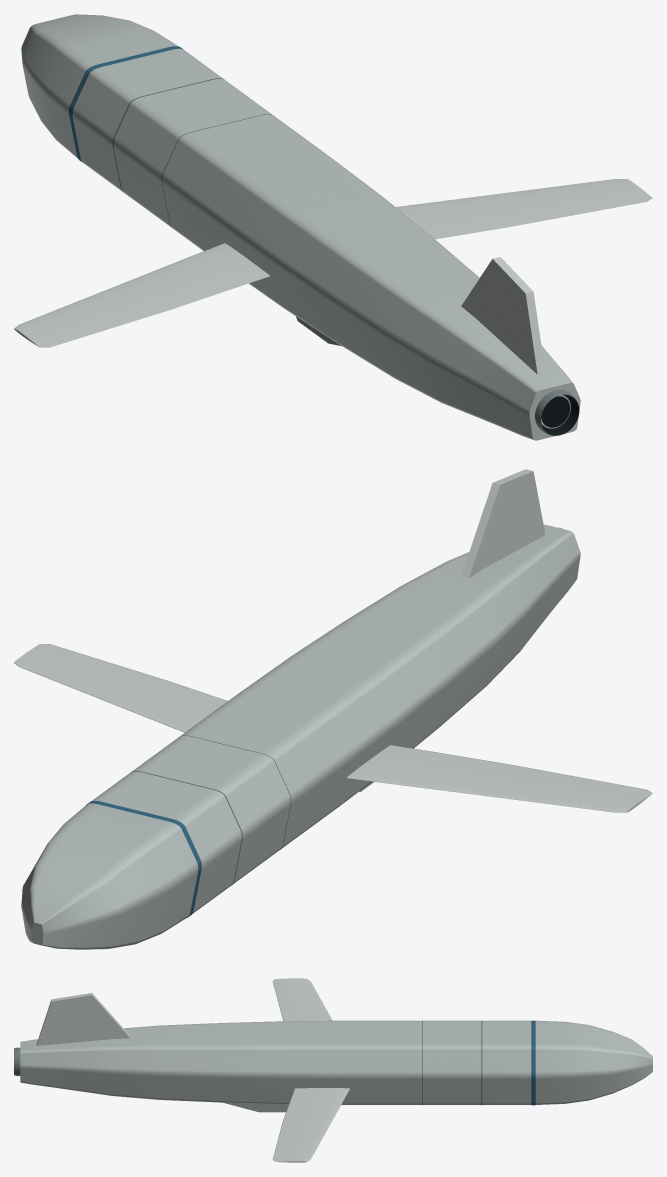
The model's file is jassm.obj.
3 views of the same model, one above another, from view 1: azimuth 30°, elevation 25°; view 2: azimuth 150°, elevation 25°; view 3: azimuth 270°, elevation 25° (orthographic). The views are drawn at different scales.
Parts seen in each view (by area): view 1: faceted_fuselage, deployed_wing, vertical_tail, finish_band, body_cap, exhaust_shadow; view 2: faceted_fuselage, deployed_wing, vertical_tail, finish_band; view 3: faceted_fuselage, deployed_wing, vertical_tail, finish_band, belly_intake.
Boxes of the visible parts, x1,y1,x2,y2 form: faceted_fuselage: [21, 14, 572, 439]; deployed_wing: [14, 179, 652, 347]; vertical_tail: [461, 257, 545, 374]; finish_band: [69, 46, 271, 228]; body_cap: [529, 383, 580, 440]; exhaust_shadow: [541, 396, 570, 427]; faceted_fuselage: [21, 524, 580, 949]; deployed_wing: [14, 644, 652, 812]; vertical_tail: [461, 469, 545, 578]; finish_band: [85, 735, 291, 917]; faceted_fuselage: [20, 1020, 652, 1104]; deployed_wing: [272, 978, 349, 1161]; vertical_tail: [36, 993, 130, 1045]; finish_band: [422, 1020, 535, 1105]; belly_intake: [223, 1102, 288, 1112].
Size of the model in its own units: 5.44 by 1.51 by 8.03.
Materials: 1 (1 with a texture image).
